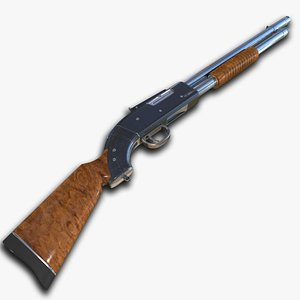weapon: (1, 16, 290, 292)
